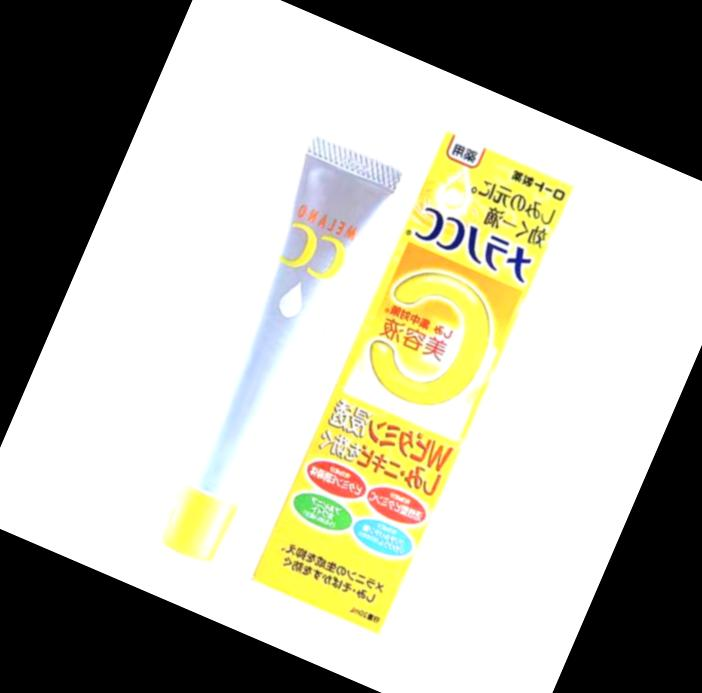cosmetic: (140, 132, 408, 576)
